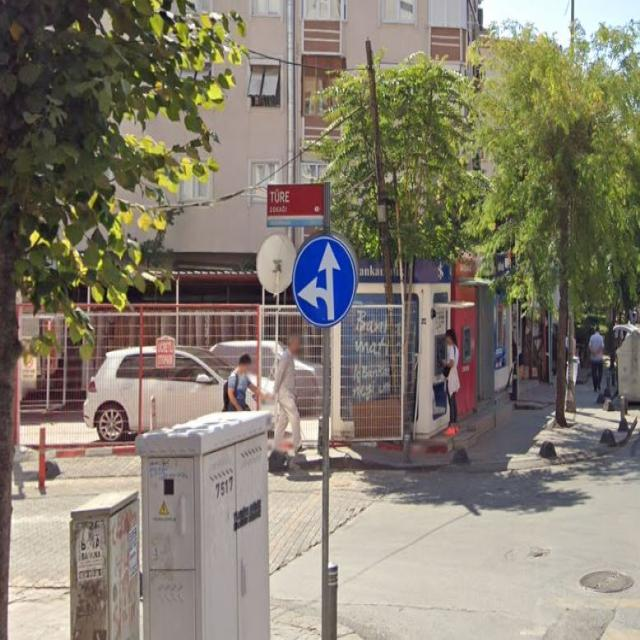ilerisol: (292, 235, 355, 327)
